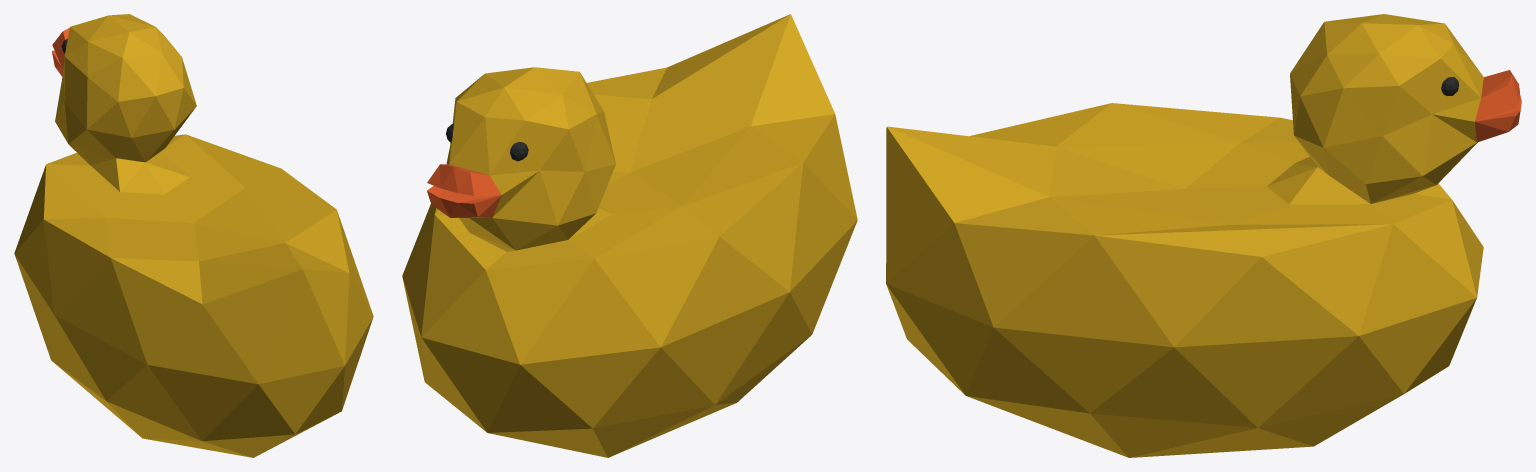
File: duck.dae
3 renders of one model, left to right at view 1: azimuth 30°, elevation 25°; view 2: azimuth 150°, elevation 25°; view 3: azimuth 270°, elevation 25°, orthographic. The views are drawn at different scales.
Visible parts, largest first — view 1: Icosphere_000, Icosphere_006; view 2: Icosphere_000, Icosphere_006; view 3: Icosphere_000, Icosphere_006.
Part boxes in pixels (x1,y1,x2,y2): Icosphere_000: (14, 14, 373, 457); Icosphere_006: (52, 28, 69, 76); Icosphere_000: (402, 14, 857, 457); Icosphere_006: (427, 164, 501, 217); Icosphere_000: (886, 14, 1483, 457); Icosphere_006: (1475, 70, 1521, 142).
Size of the model in its own units: 0.0863 by 0.1415 by 0.1025.
